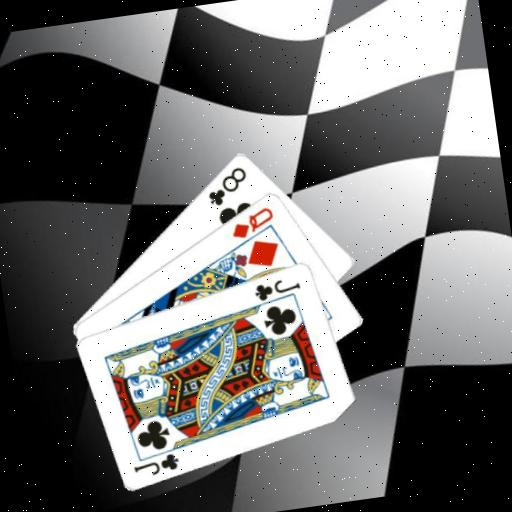8C: (202, 162, 253, 208)
JC: (129, 449, 182, 480), (250, 273, 304, 303)
QD: (226, 203, 278, 241)
